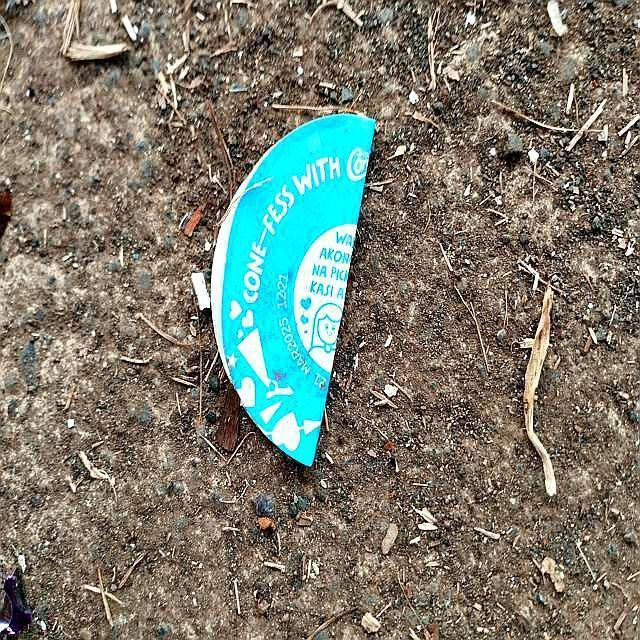Biodegradable: (174, 90, 378, 478)
